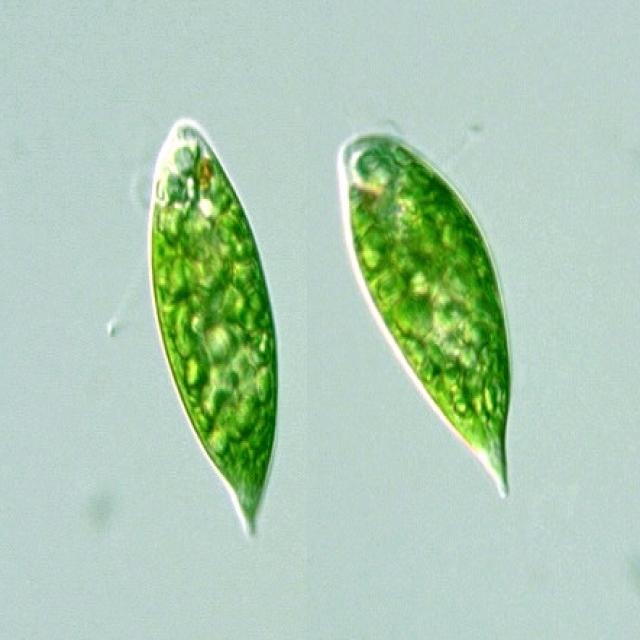Amoeba: (148, 115, 281, 534)
Rod_bacteria: (337, 129, 514, 498)
